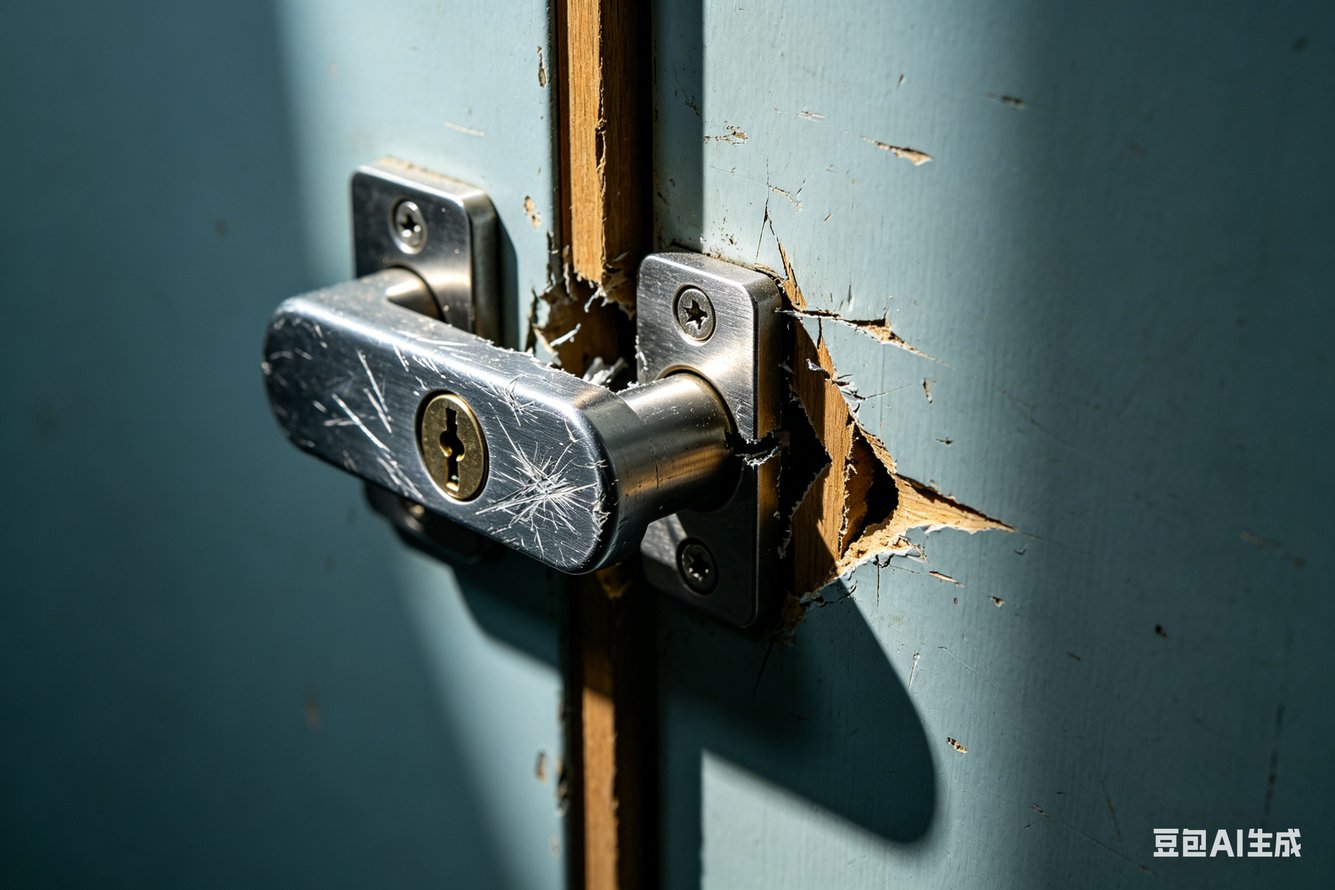BadLock: (508, 286, 701, 488)
